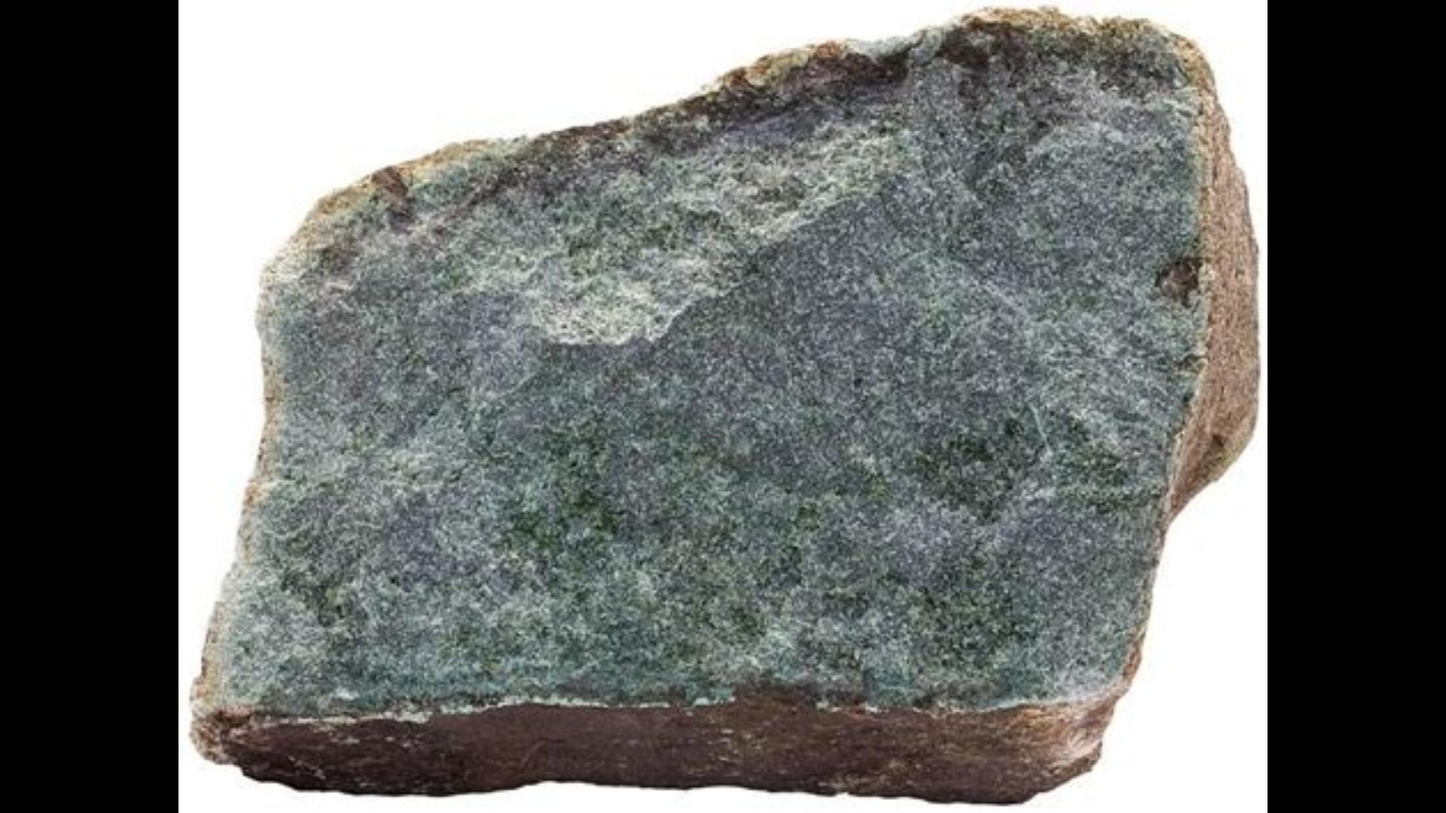rock: (199, 11, 1254, 797)
